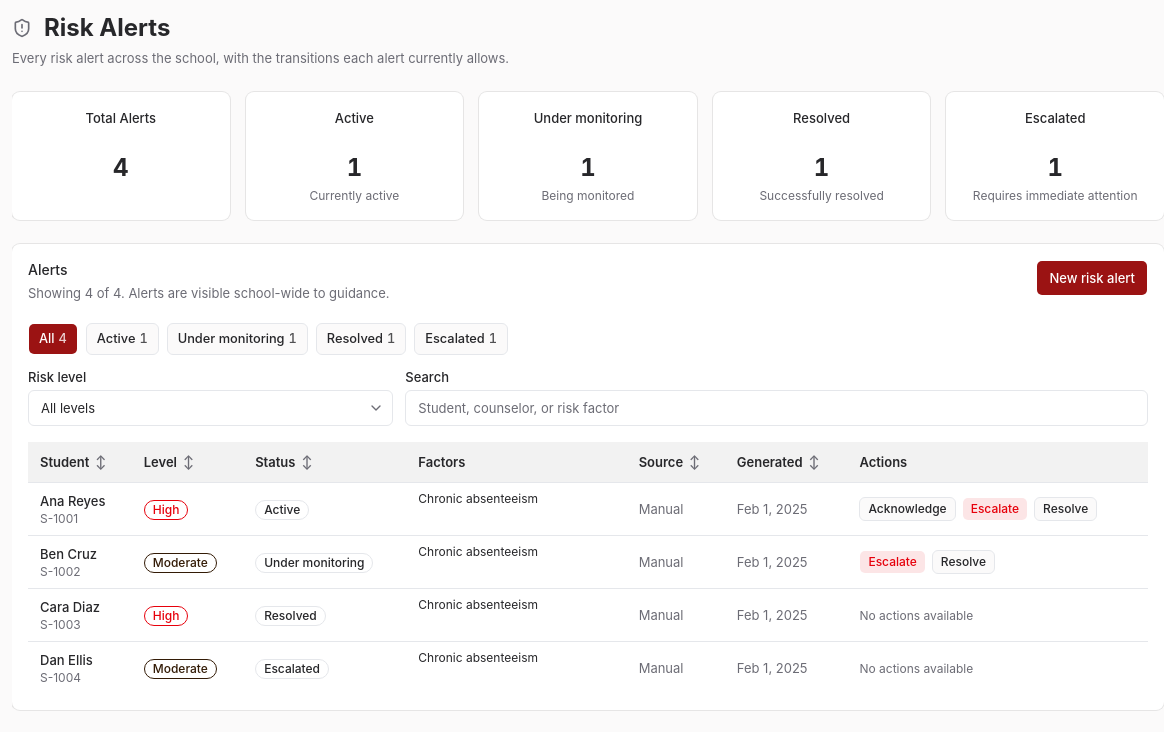
it: RiskAlertsPage › filters by status without dropping resolved alerts entirely
The image size is (1164, 732).
Expected: the text "Ana Reyes" is shown, x1=40 y1=493 x2=105 y2=509
Click the button "Resolved 1".
click(361, 339)  # box x1=316 y1=323 x2=406 y2=355
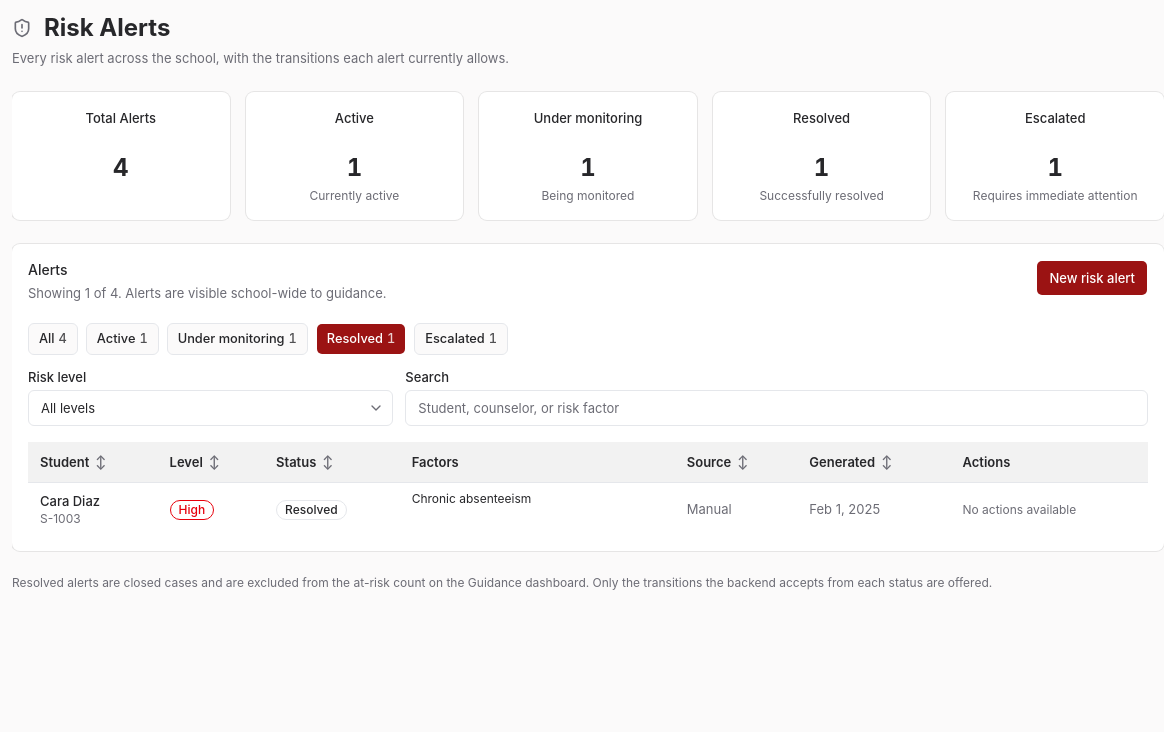
Expected: the text "Cara Diaz" is shown, x1=40 y1=493 x2=100 y2=509
Expected: the text "Showing 1 of 4. Alerts are visible school-wide to guidance." is shown, x1=28 y1=283 x2=386 y2=303
Expected: the text "Ana Reyes" is gone
